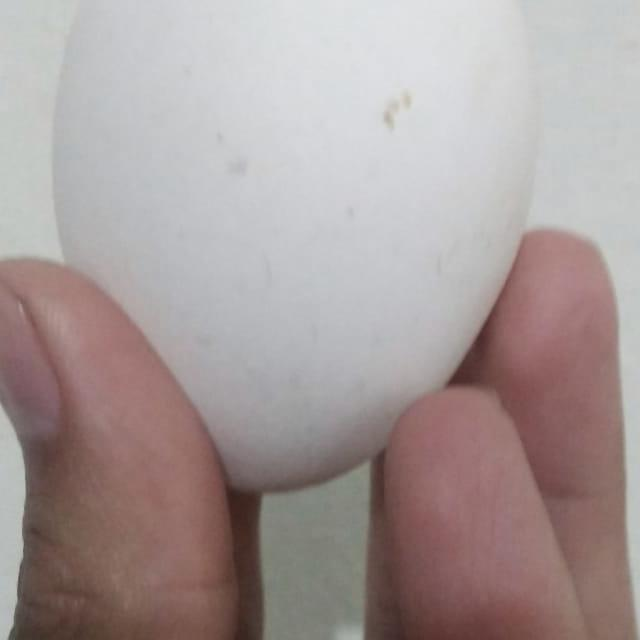egg: (46, 0, 542, 497)
